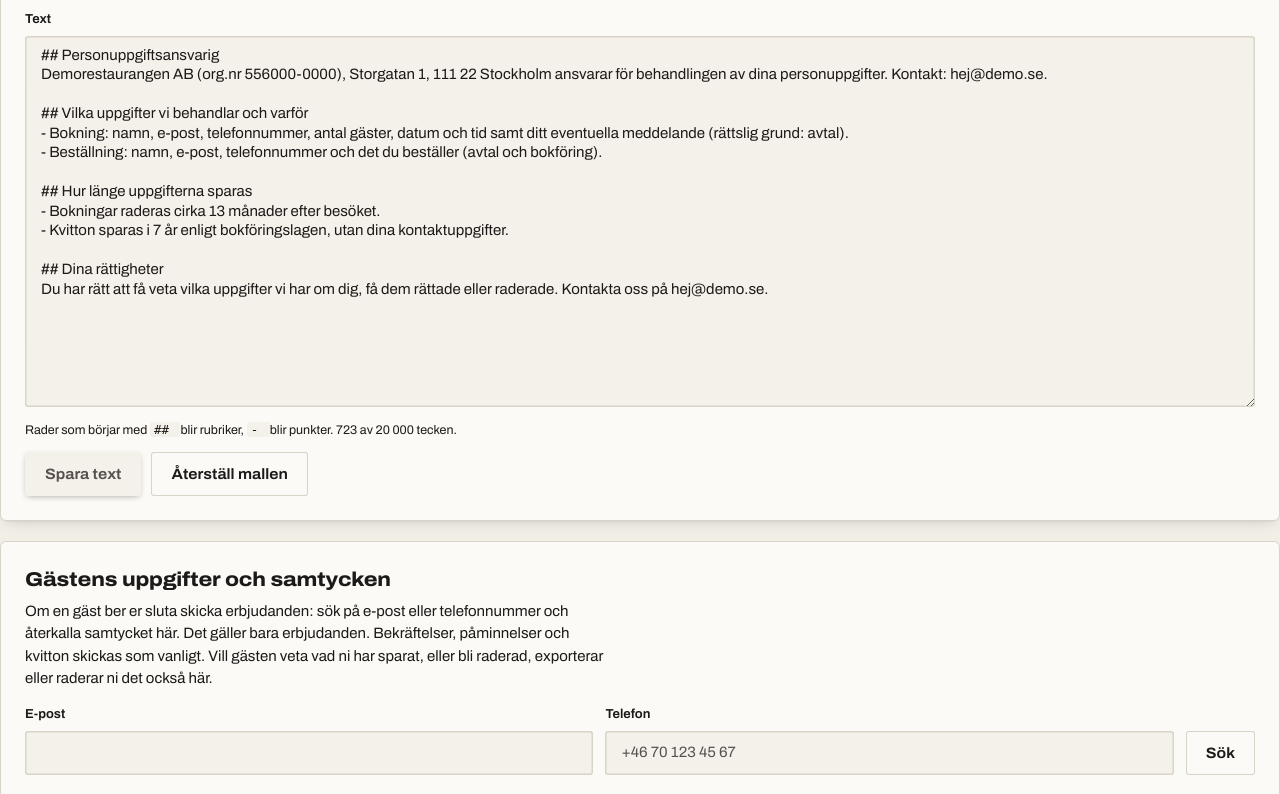
Scenario: PrivacyCard › exports the guest as JSON and erases after confirming
(page scrolled)
Step 1. Type "anna@example.se" into the field labelled "E-post" → (309, 752), box [25,730,593,774]
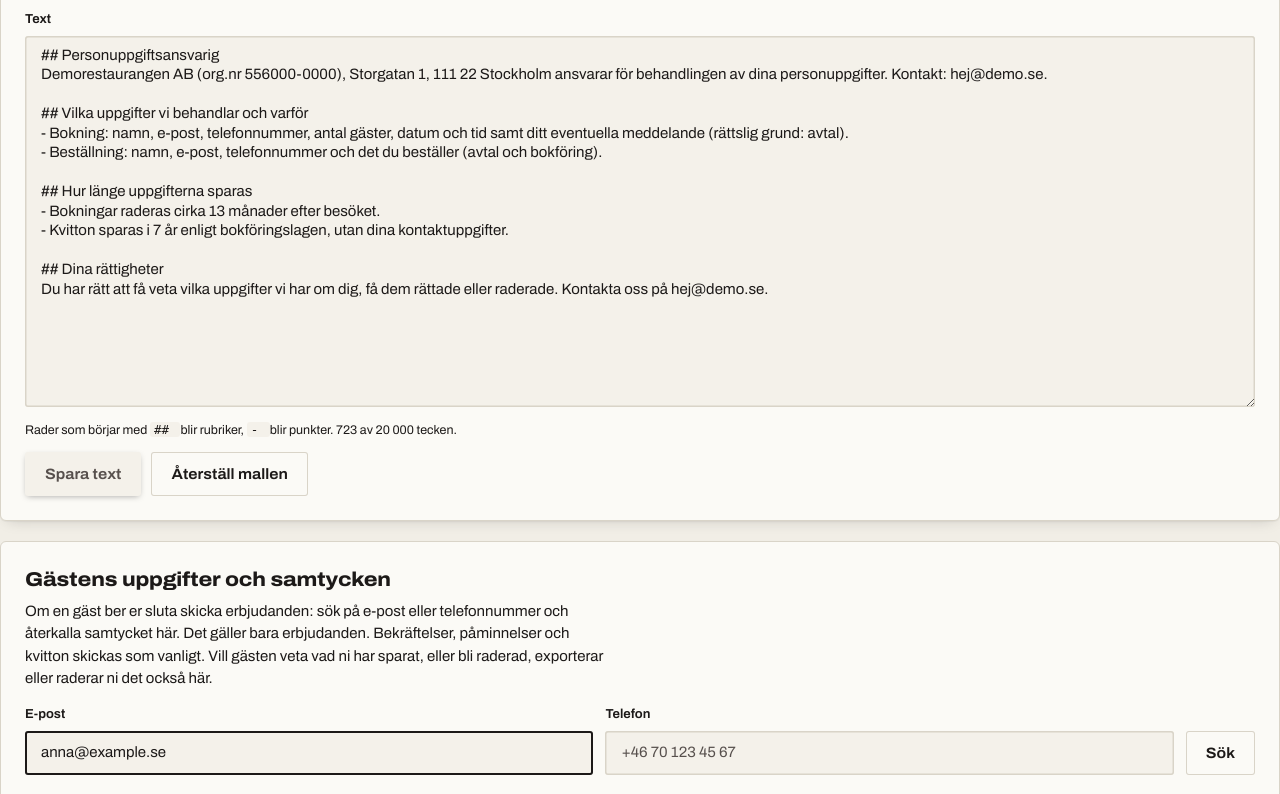
Step 2. Click the button "Sök" → (1220, 752), box [1186,730,1255,774]
(page scrolled)
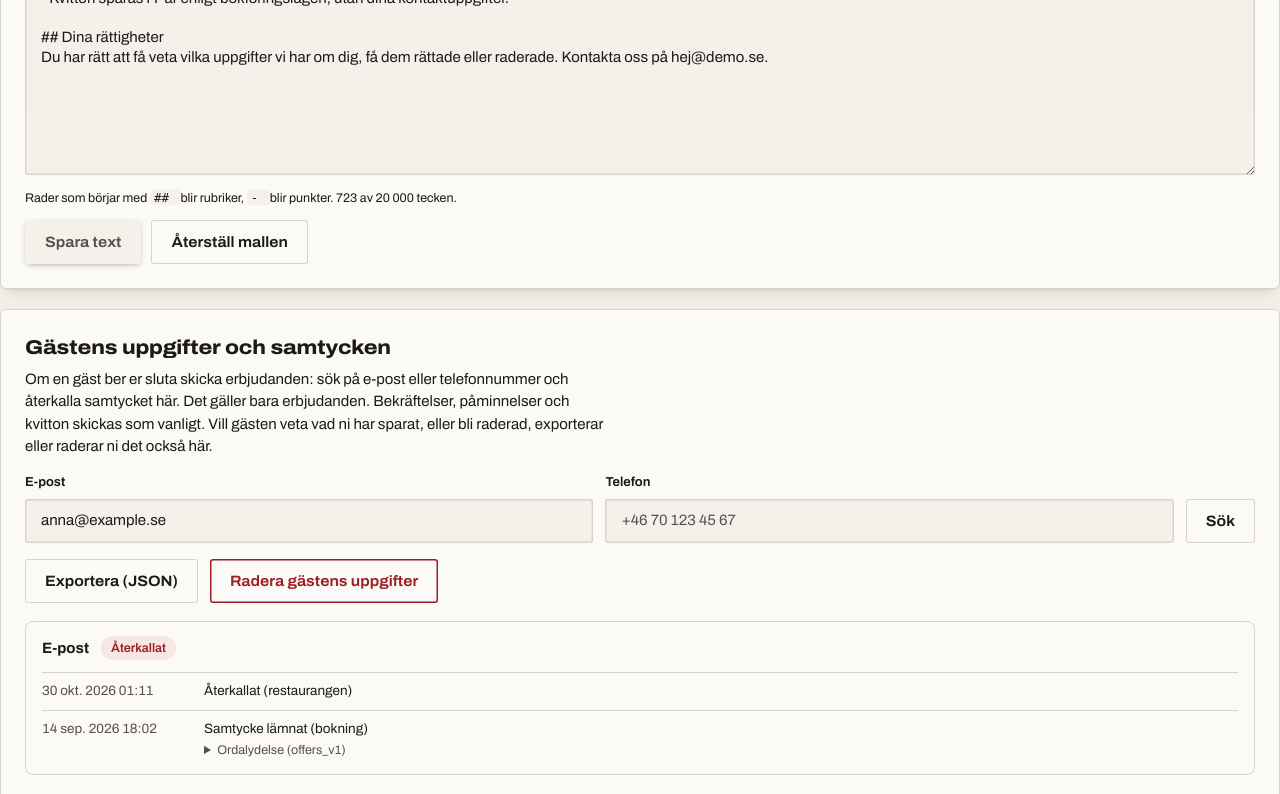
Step 3. Click the button "Exportera (JSON)" → (112, 580), box [25,558,198,602]
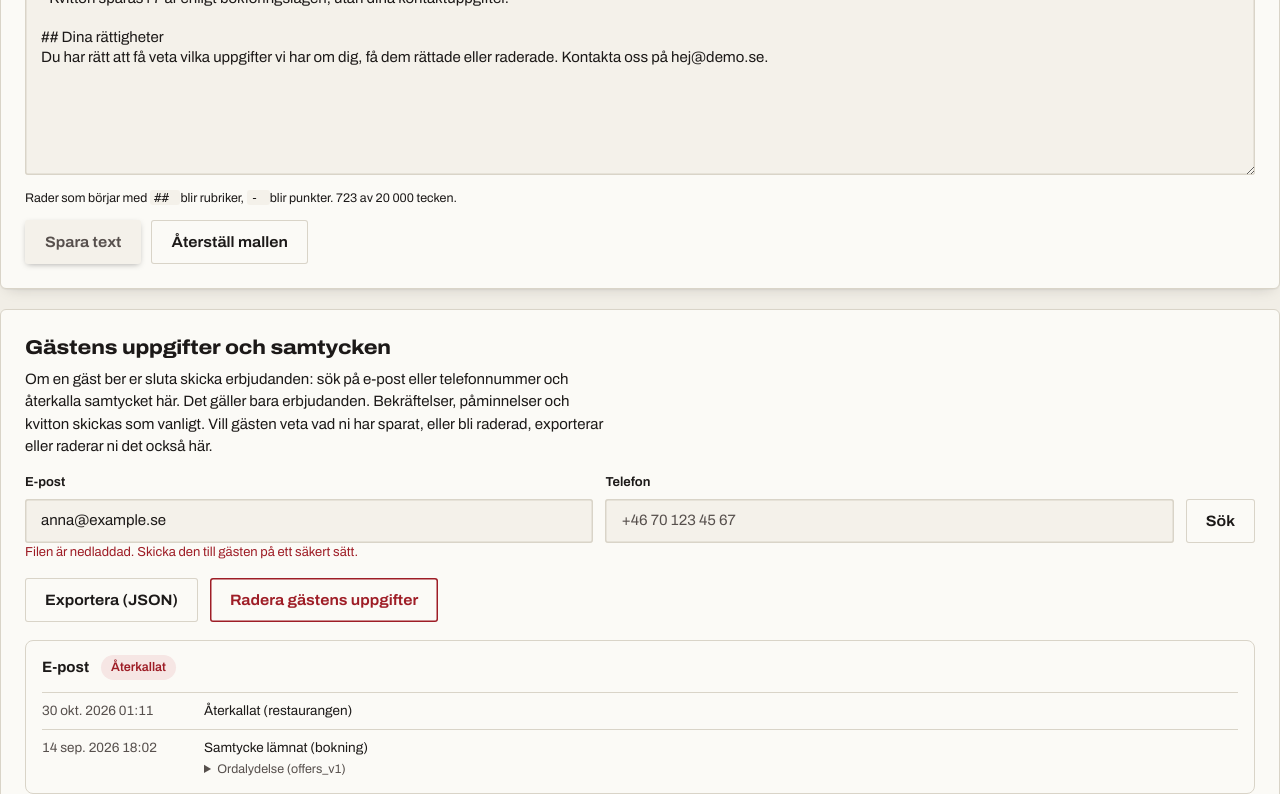
Expected: the text "Filen är nedladdad. Skicka den till gästen på ett säkert sätt." is shown, [25,544,358,558]
Step 4. Click the button "Radera gästens uppgifter" → (324, 600), box [210,578,438,622]
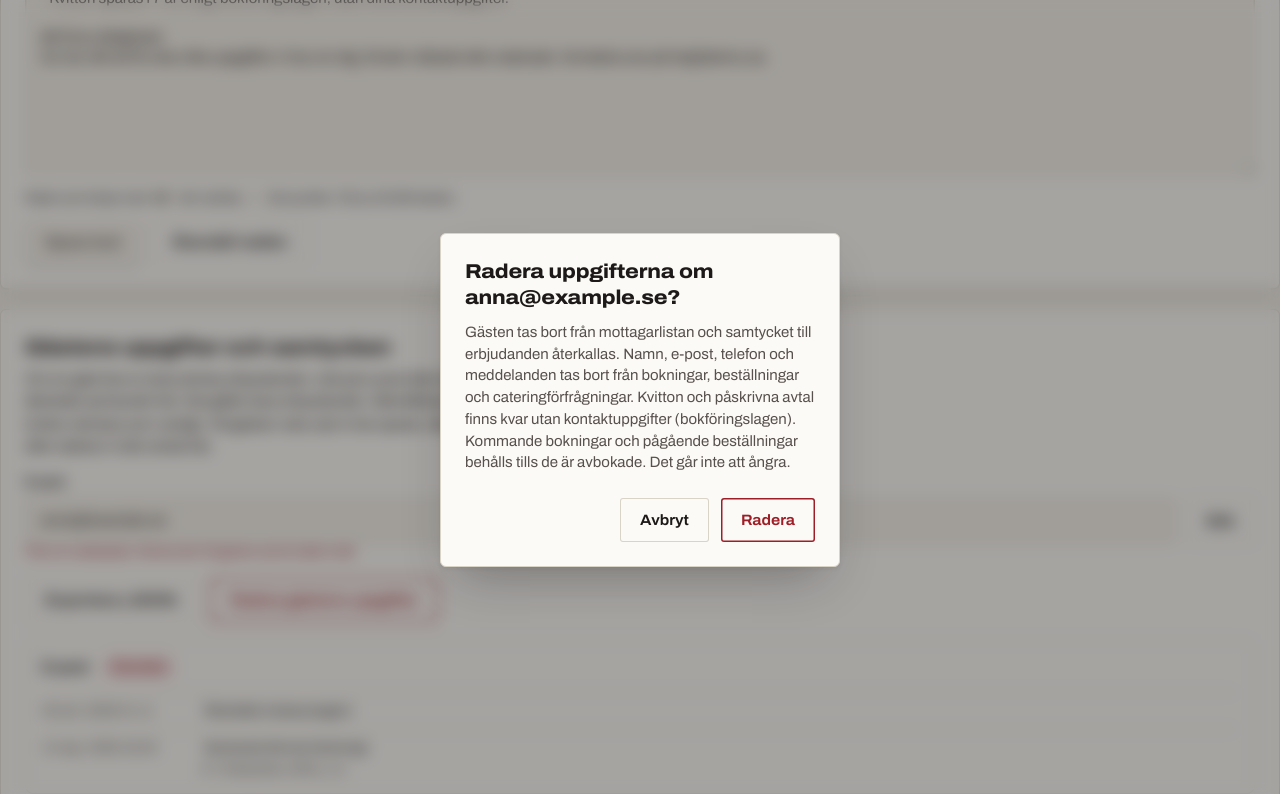
Expected: the text "Kvitton och påskrivna avtal finns kvar" is shown, [465,324,814,470]
Step 5. Click the button "Radera" → (768, 520), box [721,498,815,542]
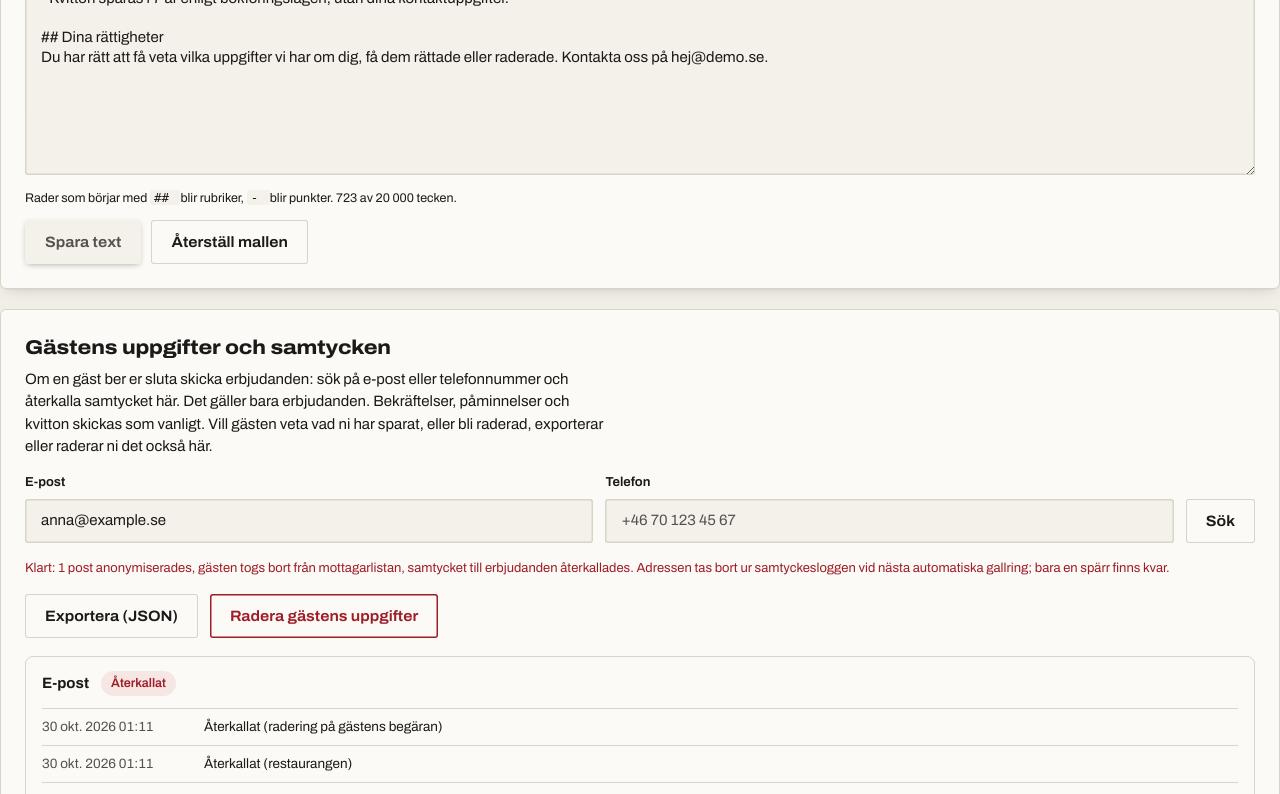
Expected: the text "Klart: 1 post anonymiserades" is shown, [25,560,1170,574]
Expected: the text "Återkallat (radering på gästens begäran)" is shown, [204,719,443,734]
